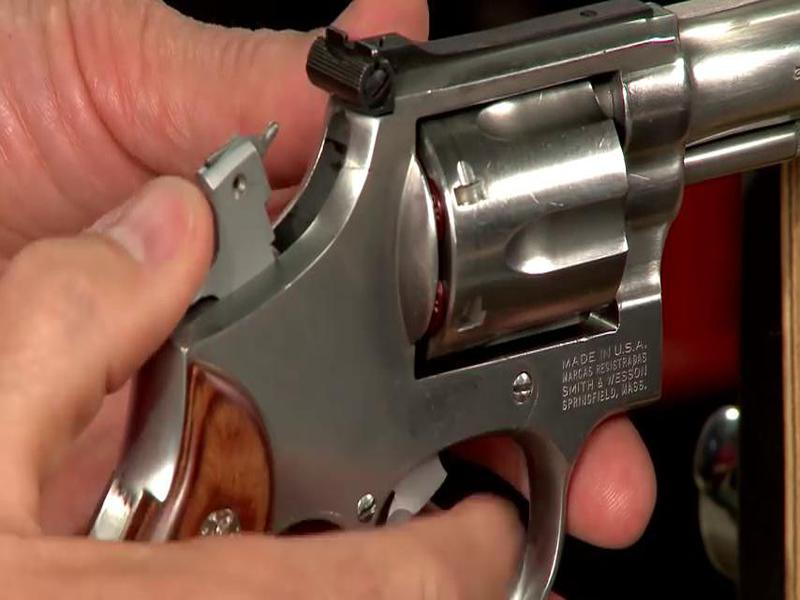Revolver: (100, 10, 800, 548)
